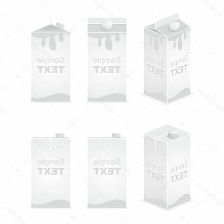carton: (134, 117, 198, 211), (140, 8, 195, 107), (25, 15, 77, 108), (84, 12, 133, 103), (27, 130, 75, 212), (83, 129, 131, 210)
